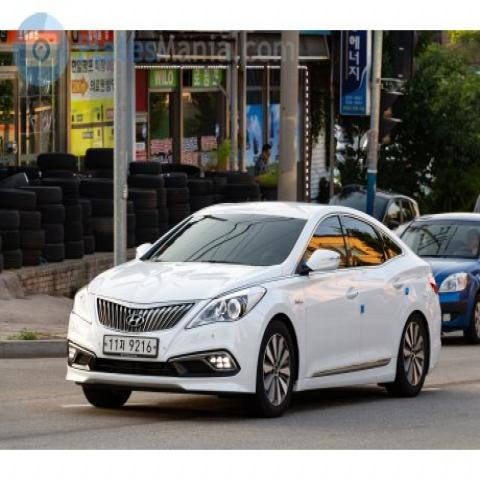LP: (99, 327, 165, 360)
